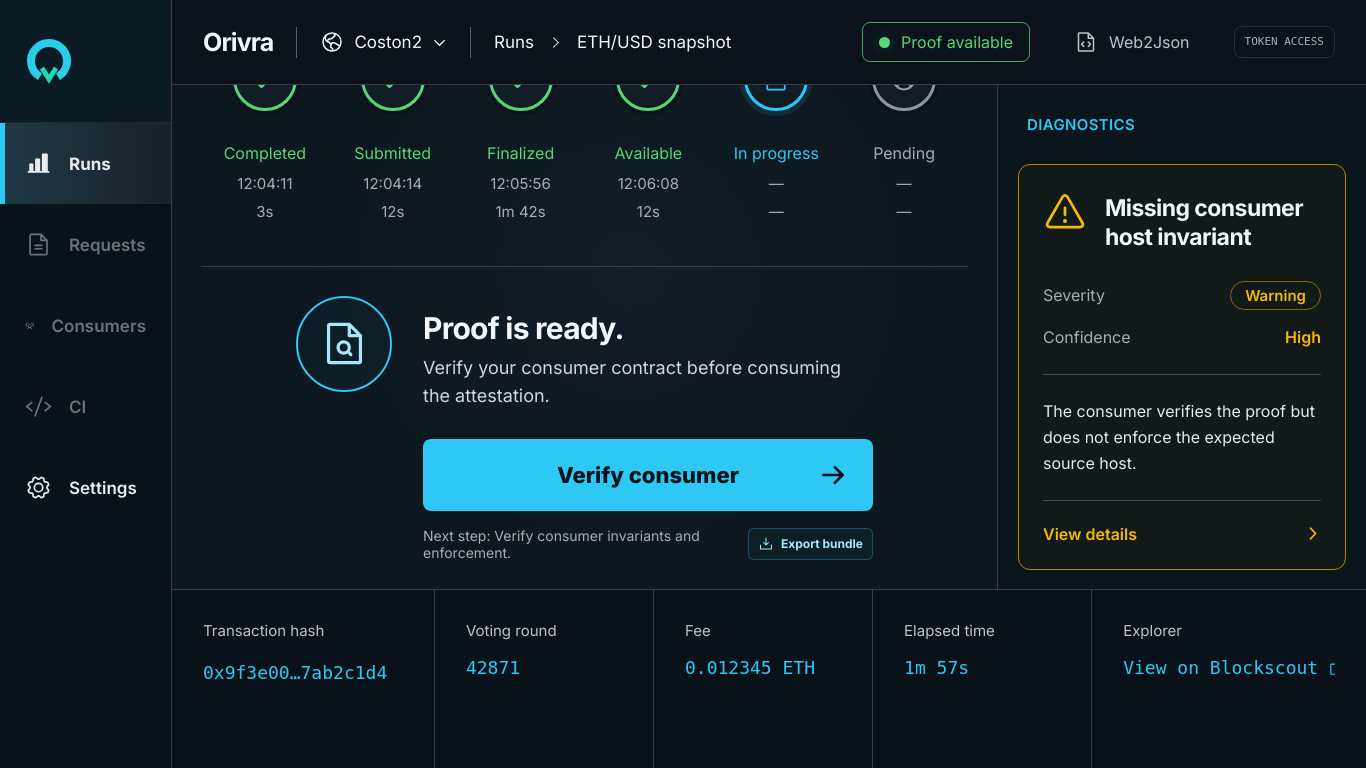
Test: Run Cockpit live surface contract › shows an actionable retry without losing the run when verification transport fails
(page scrolled)
Click the button "Verify consumer" at (648, 475), box 423,439 -> 873,511
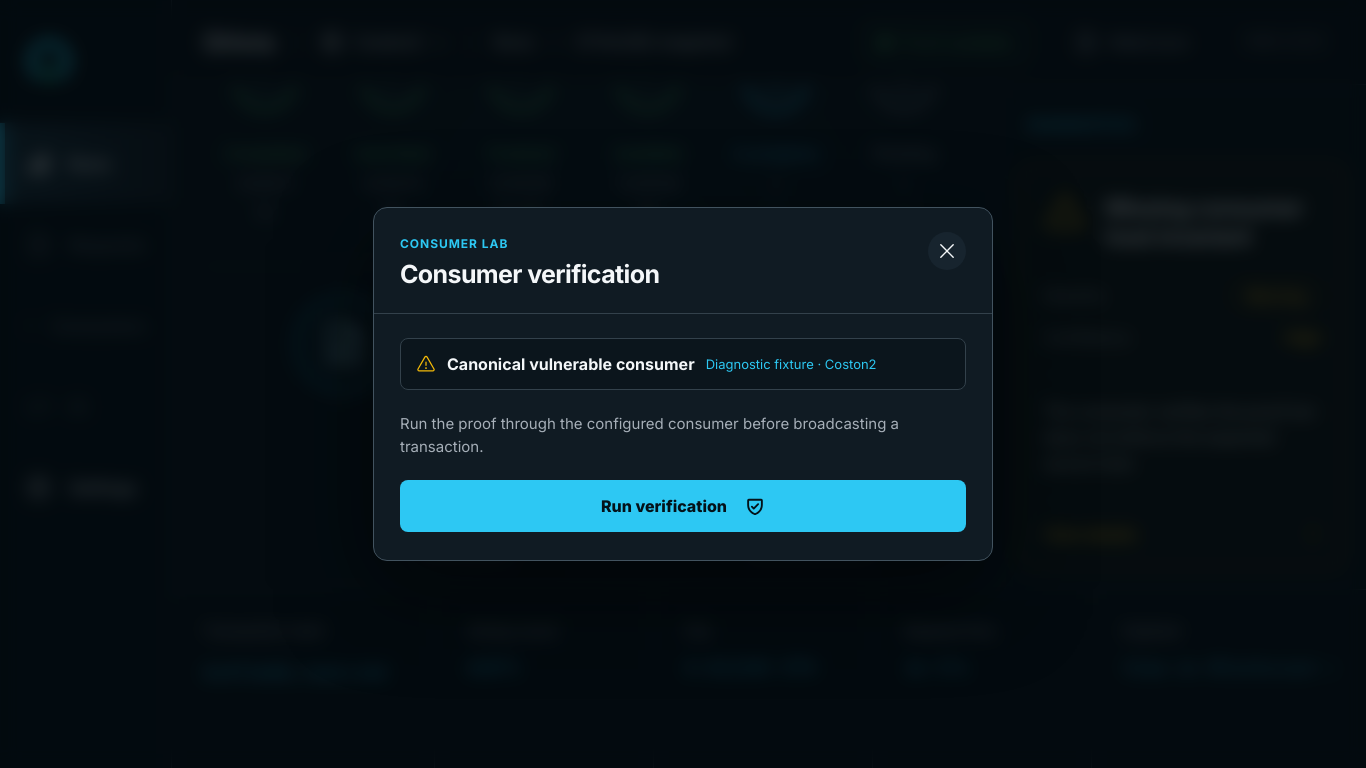
Click the button "Run verification" at (683, 506), box 400,480 -> 966,532
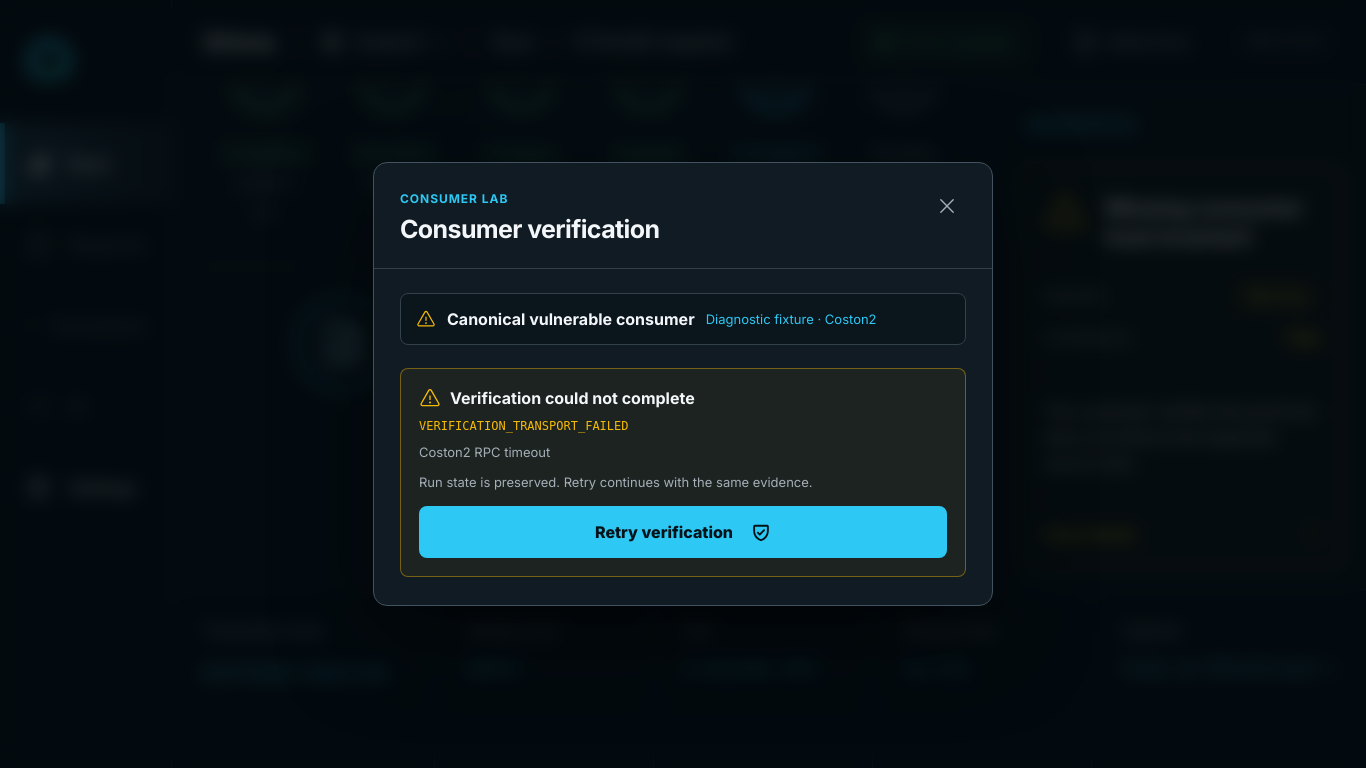
Now the message shows "timeout", box 419,444 -> 550,460
Click the button "Retry verification" at (683, 532), box 419,506 -> 947,558
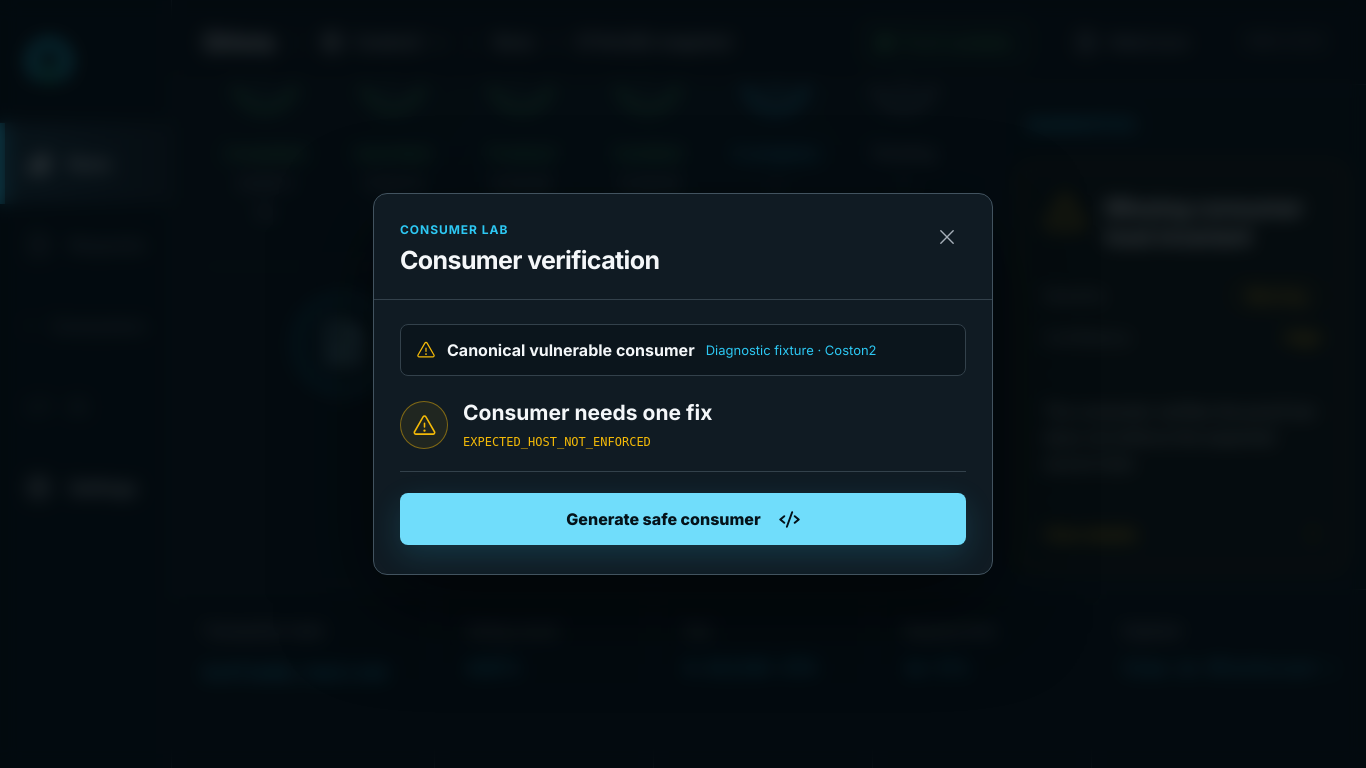
Now the heading "Consumer needs one fix" is shown, box 463,400 -> 712,425
